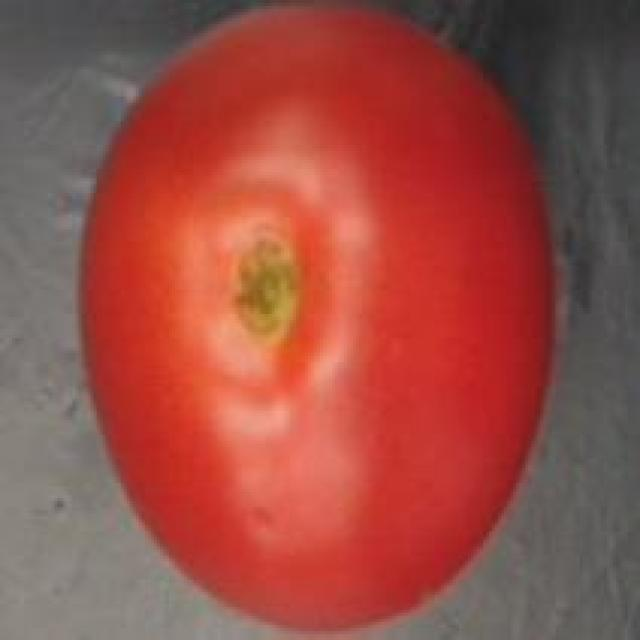ripe tomato: (64, 0, 562, 640)
